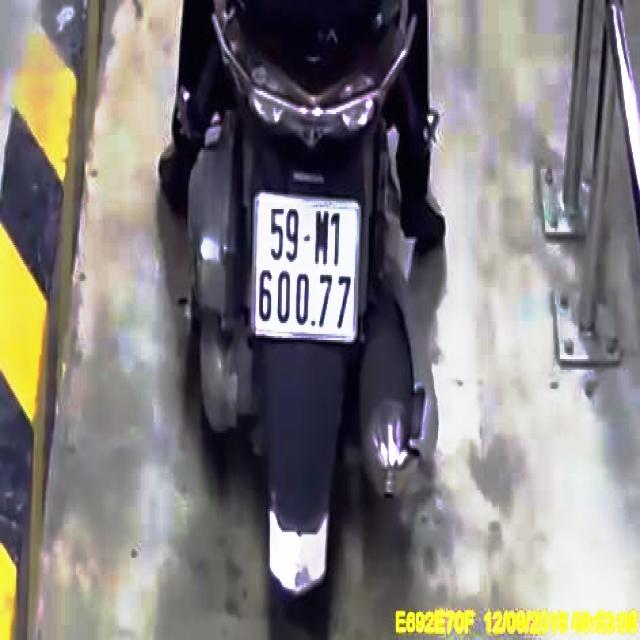license_plate: (253, 193, 362, 347)
